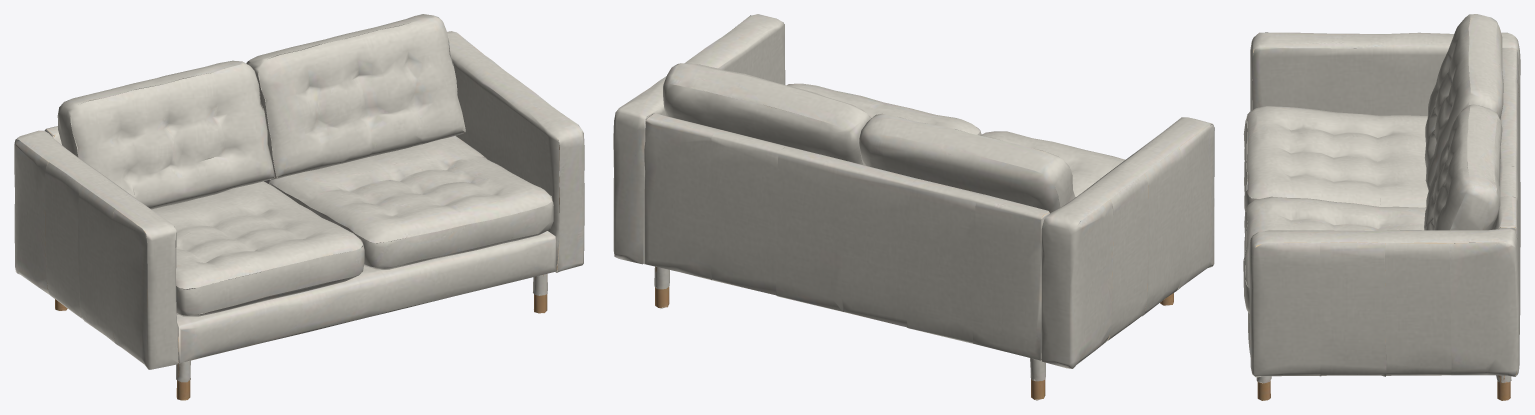
The model's file is landskrona_sofa_2_osobowa_09435343.glb.
The picture shows the model from 3 angles, left to right: view 1: azimuth 30°, elevation 25°; view 2: azimuth 150°, elevation 25°; view 3: azimuth 270°, elevation 25°; orthographic projection. The views are drawn at different scales.
Parts seen in each view (by area): view 1: landskrona_sofa_2_osobowa_09435343; view 2: landskrona_sofa_2_osobowa_09435343; view 3: landskrona_sofa_2_osobowa_09435343.
Part boxes in pixels (box(x1,y1,x2,y2)): landskrona_sofa_2_osobowa_09435343: box(14, 14, 584, 400); landskrona_sofa_2_osobowa_09435343: box(613, 14, 1214, 400); landskrona_sofa_2_osobowa_09435343: box(1243, 14, 1520, 400).
Size of the model in its own units: 1.66 by 0.7823 by 0.9101.
Materials: 1 (1 with a texture image).
